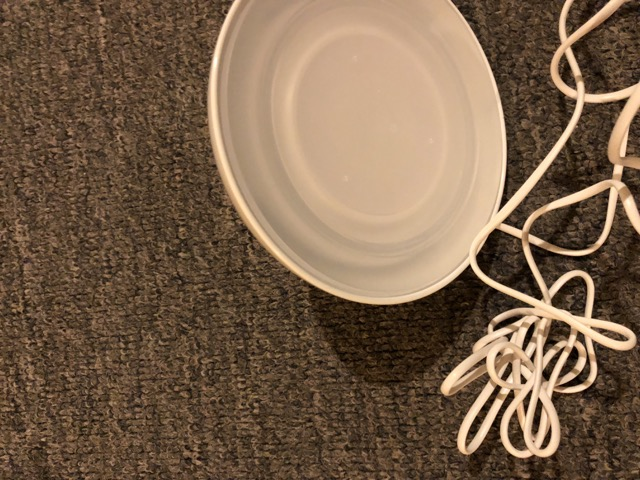light: (185, 1, 537, 313)
